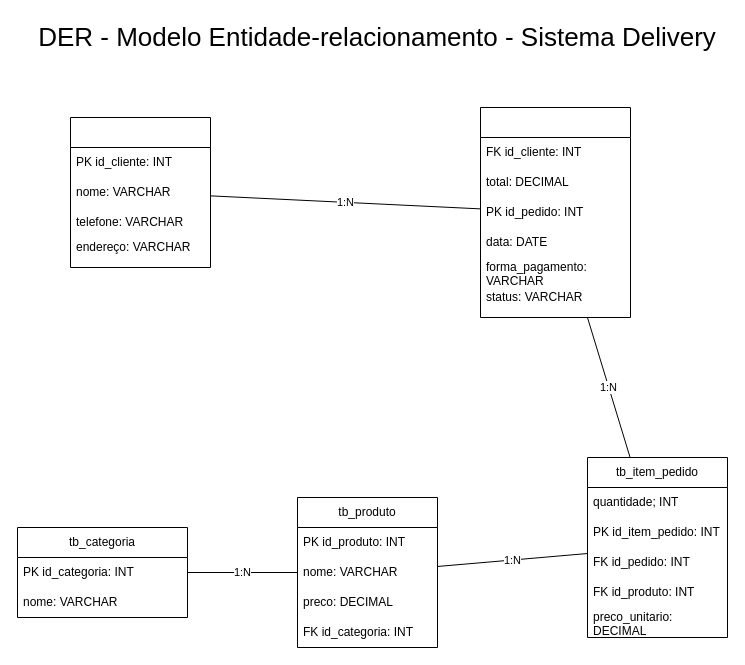
This 745x665 diagram has some shape labels left out. Here are the shapes that lost their labels. From the top down, the box of each, then its label:
(70, 116, 210, 268): tb_cliente
(480, 106, 630, 318): tb_pedido
